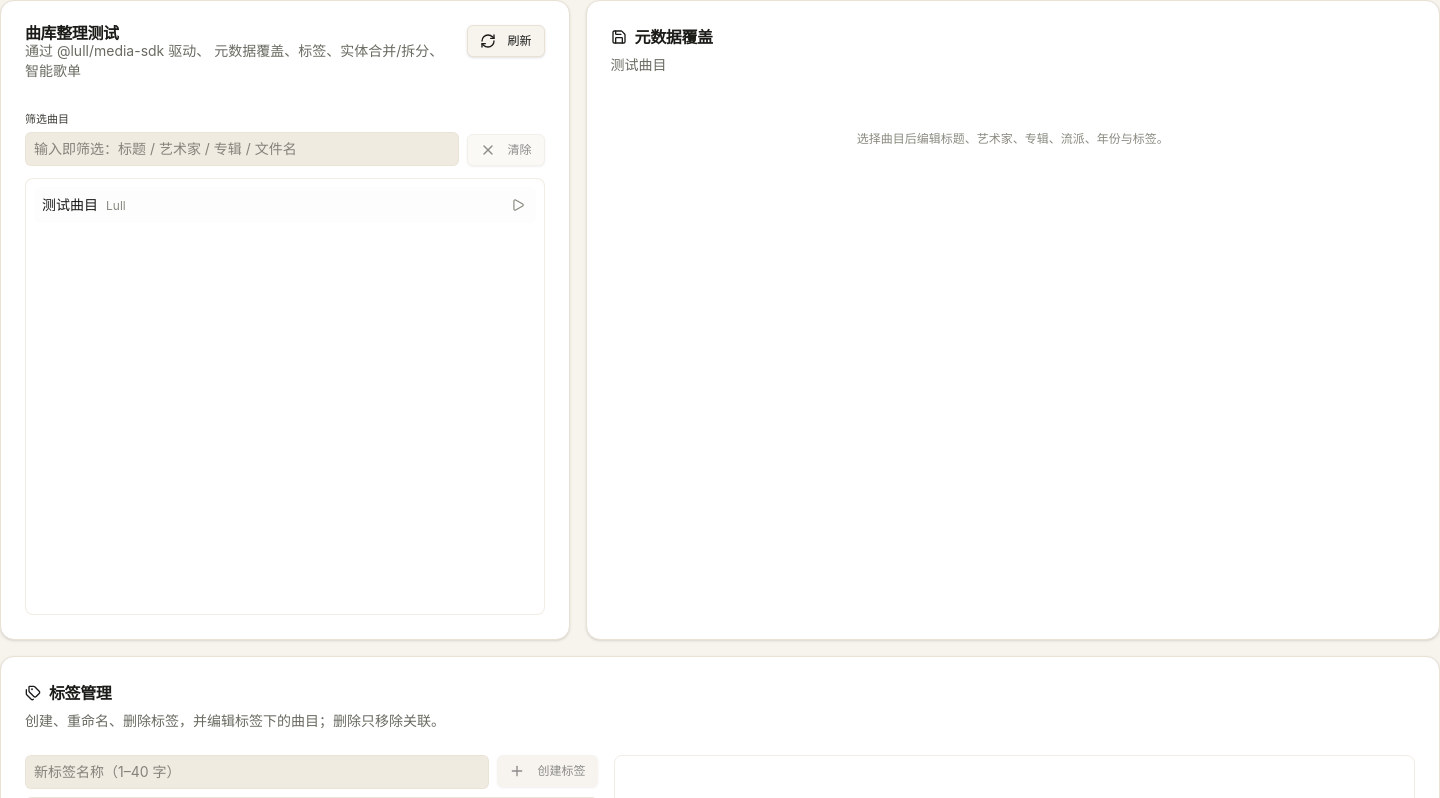
Test: 曲目行提供预览播放与停止切换
This screenshot has width=1440, height=798.
Click the button named "播放预览 测试曲目": (518, 204) [504,190,532,218]
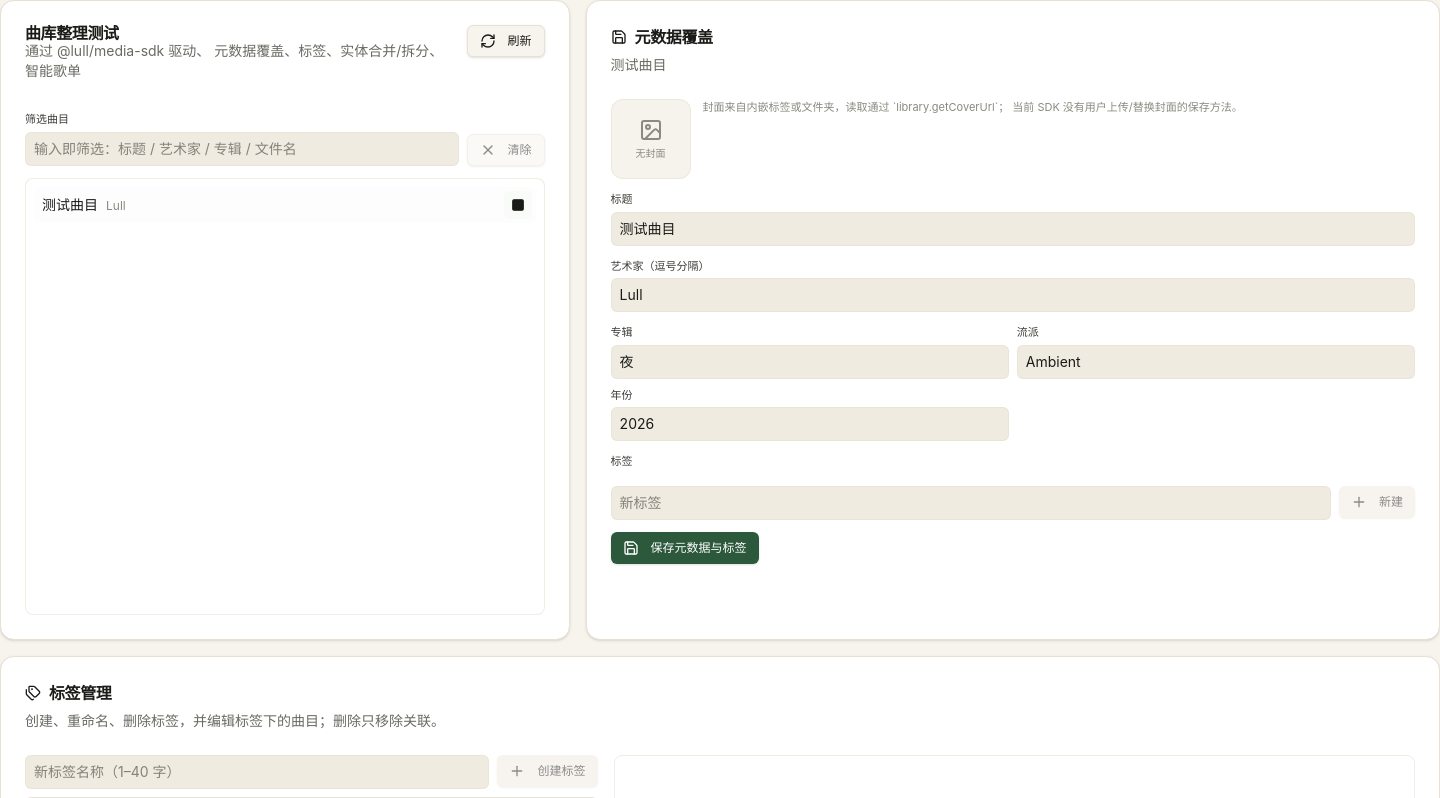
Expected: the button named "停止预览 测试曲目" is shown
Click the button named "停止预览 测试曲目": (518, 204) [504,190,532,218]
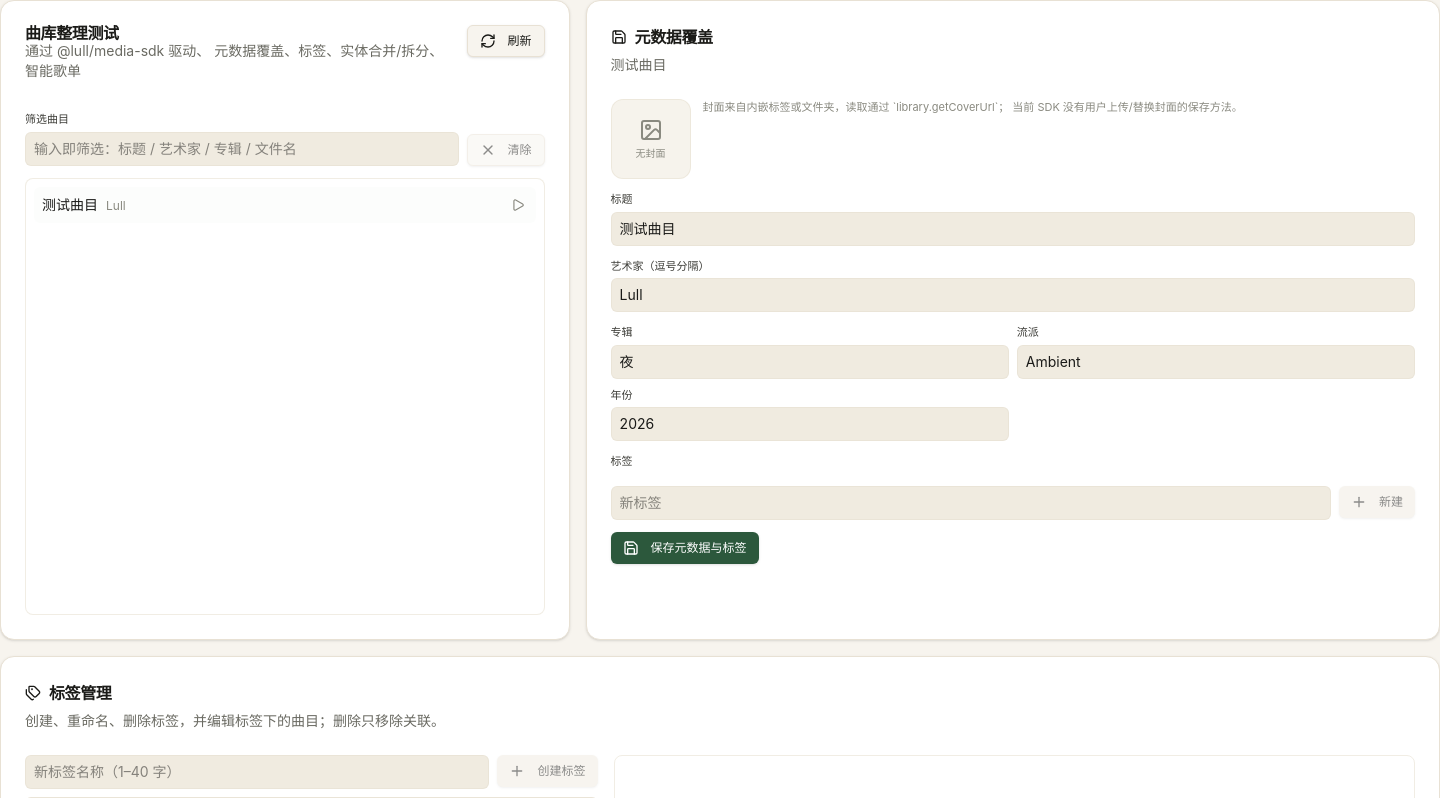
Expected: the button named "播放预览 测试曲目" is shown, [504,190,532,218]
